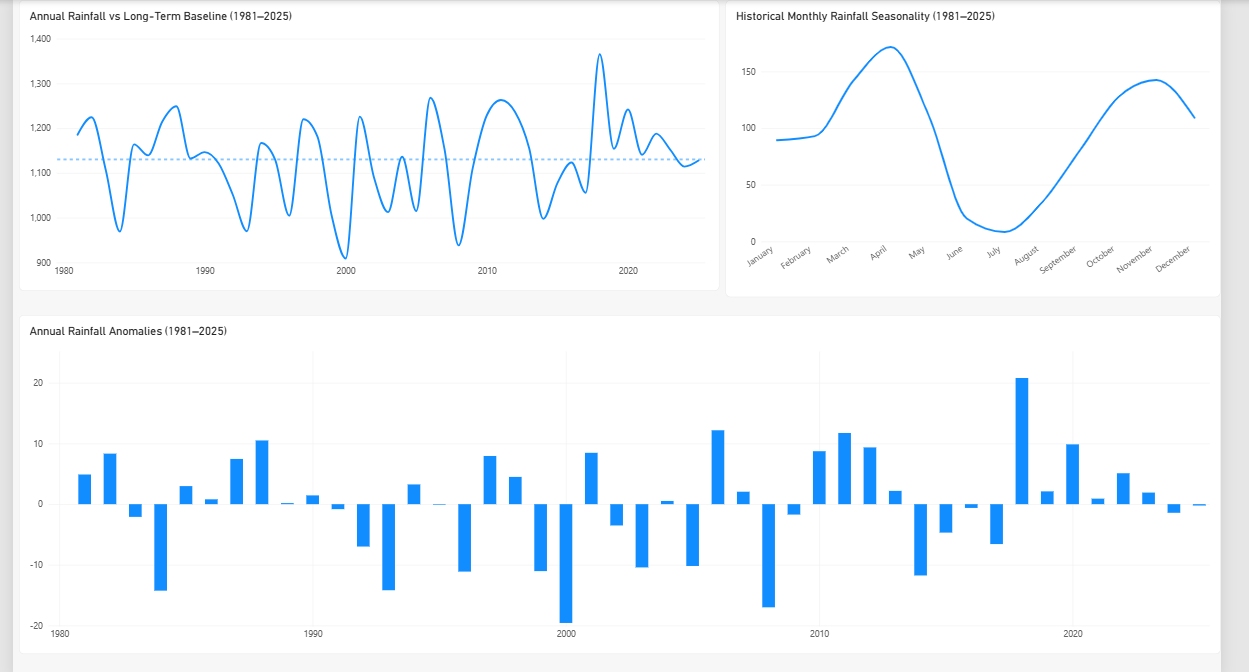

This screenshot's page, from the dashboard's own definition file:
{"tool":"powerbi","page":{"name":"Trends & Seasonality","canvas":[1920,1080],"ordinal":1},"visuals":[{"type":"lineChart","title":"Annual Rainfall vs Long-Term Baseline (1981–2025)","fields":{"Category":["public vw_annual_rainfall.year"],"Y":["Sum(public vw_annual_rainfall.annual_rainfall_mm)"]},"box":[9.5,0,1114.2,462.9],"z":0},{"type":"clusteredColumnChart","title":"Annual Rainfall Anomalies (1981–2025)","fields":{"Category":["public vw_annual_rainfall_anomalies.year"],"Y":["Sum(public vw_annual_rainfall_anomalies.anomaly_percent)"]},"box":[9.5,501,1911.1,539.2],"z":1},{"type":"lineChart","title":"Historical Monthly Rainfall Seasonality (1981–2025)","fields":{"Category":["public vw_monthly_seasonality.month_name"],"Y":["Sum(public vw_monthly_seasonality.historical_mean_monthly_rainfall_mm)"]},"box":[1133.3,0,787.4,472.4],"z":2}]}

Visuals, with their boxes on the page's 1920x1080 design canvas (x1, y1, x2, y2). These are canvas units, not pixel positions in the 1249x672 screenshot, which may show the page scaled, cropped or inside an application window:
"Annual Rainfall vs Long-Term Baseline (1981–2025)" lineChart: box=[10, 0, 1124, 463]
"Annual Rainfall Anomalies (1981–2025)" clusteredColumnChart: box=[10, 501, 1921, 1040]
"Historical Monthly Rainfall Seasonality (1981–2025)" lineChart: box=[1133, 0, 1921, 472]
